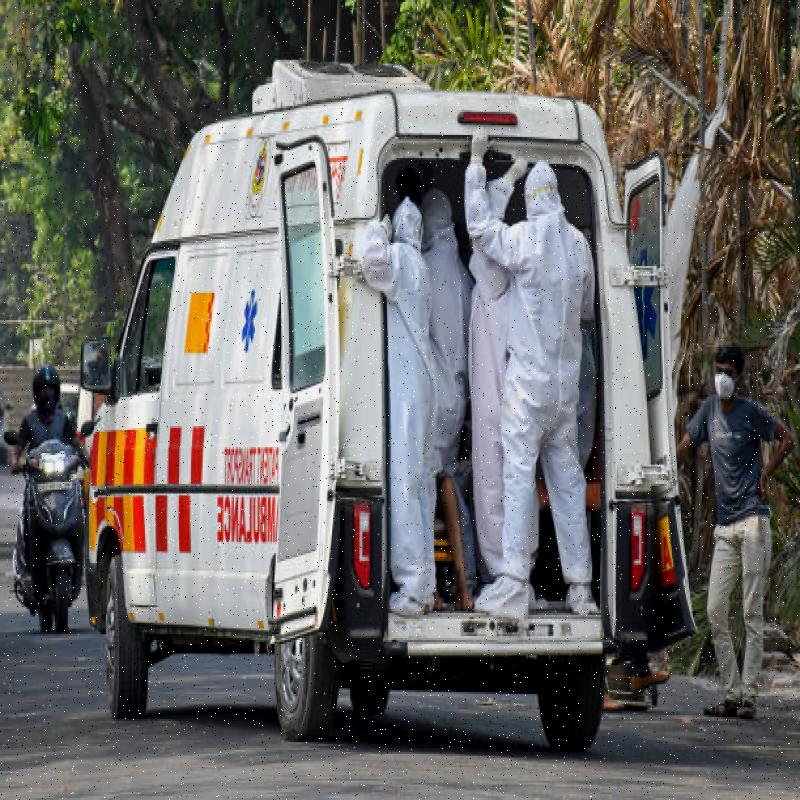ambulance: (87, 46, 676, 756)
